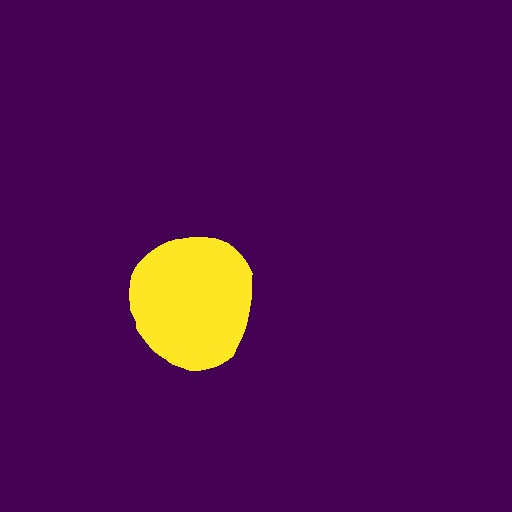Menigiomia_tumour: (129, 237, 253, 371)
